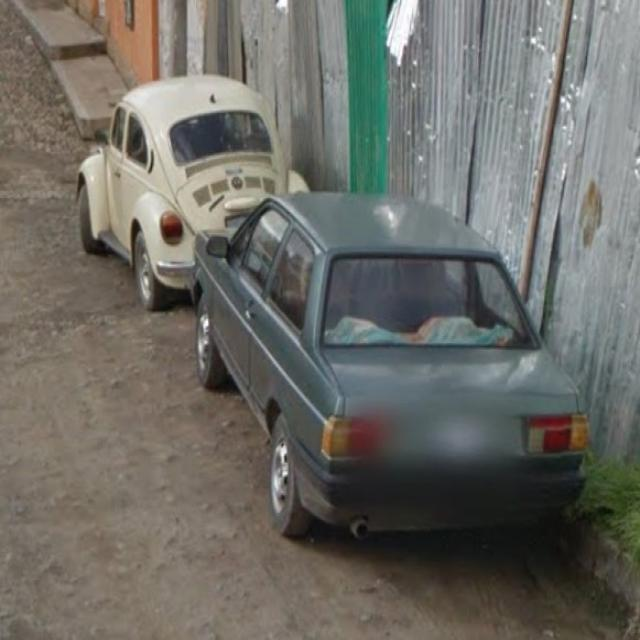cars: (208, 204, 590, 551), (65, 76, 243, 306)
